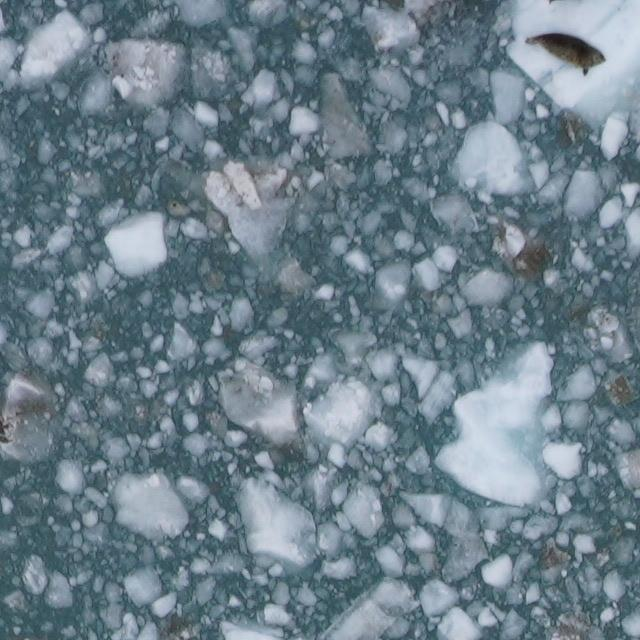seal: (521, 28, 610, 80)
